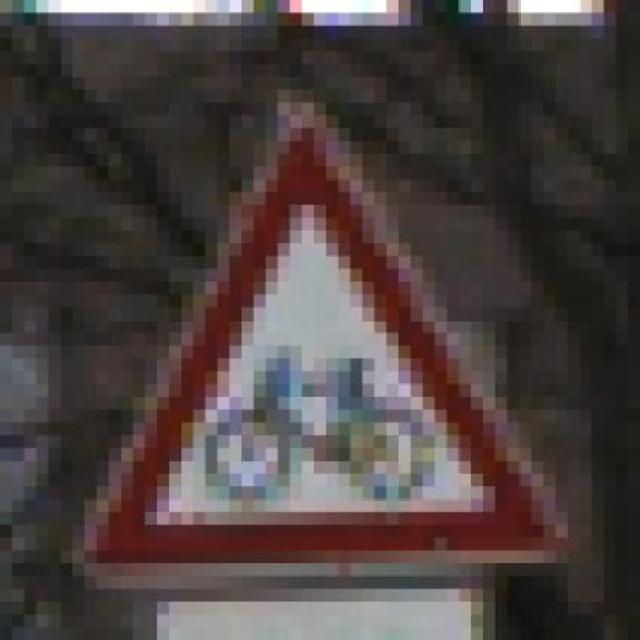CYCLE ROUTE AHEAD WARNING: (85, 77, 580, 589)
